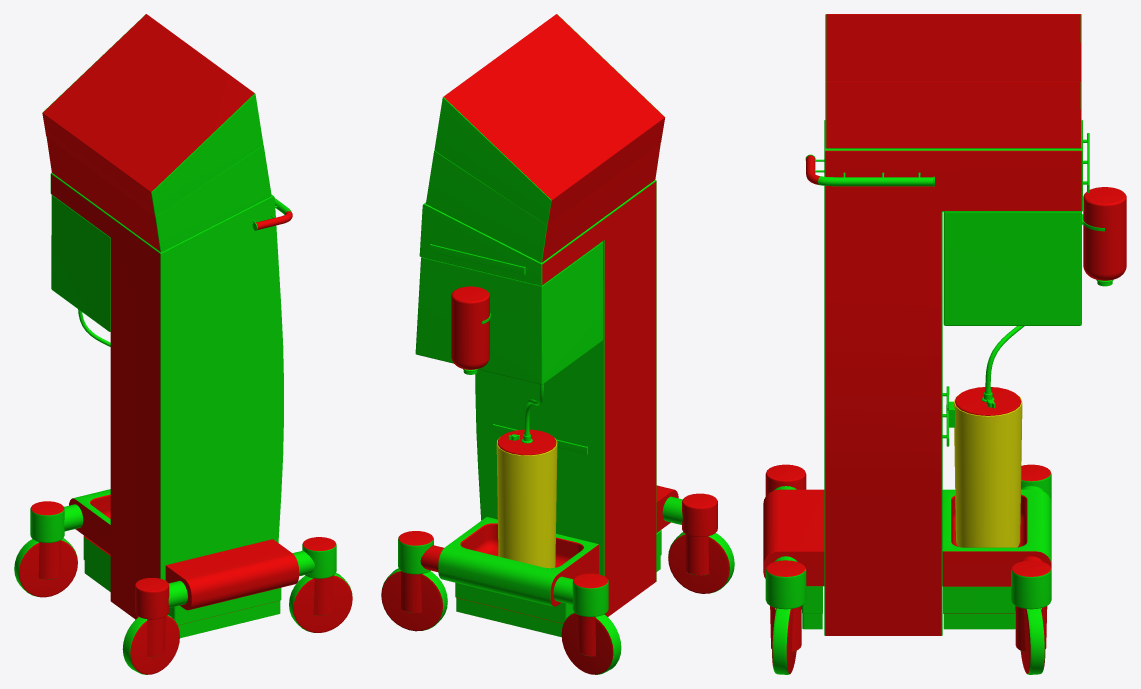
File: Equipment_4.fbx
3 renders of one model, left to right at view 1: azimuth 30°, elevation 25°; view 2: azimuth 150°, elevation 25°; view 3: azimuth 270°, elevation 25°, orthographic. The views are drawn at different scales.
Visible parts, largest first — view 1: L:pCylinder80; view 2: L:pCylinder80; view 3: L:pCylinder80.
Part boxes in pixels (x1,y1,x2,y2): L:pCylinder80: [14, 14, 352, 674]; L:pCylinder80: [381, 14, 734, 674]; L:pCylinder80: [763, 14, 1126, 674].
Bounding box in the file's own units: 65.82 × 149 × 78.
